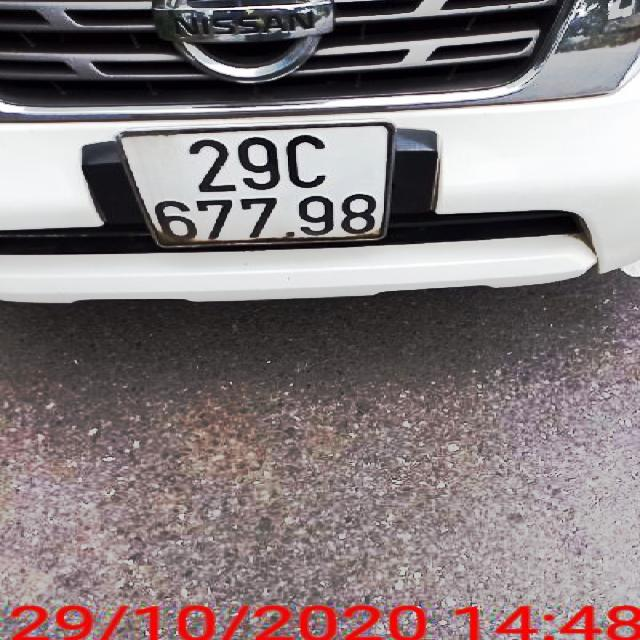license_plate: (115, 126, 398, 247)
